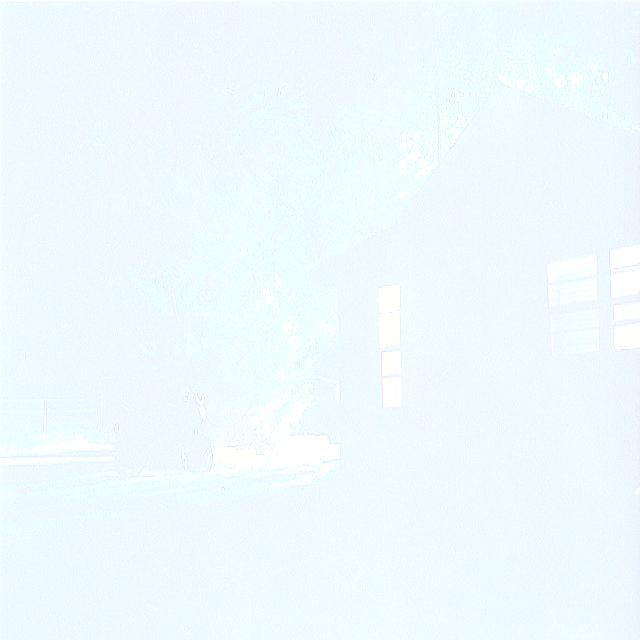Motorbike: (128, 335, 248, 536)
